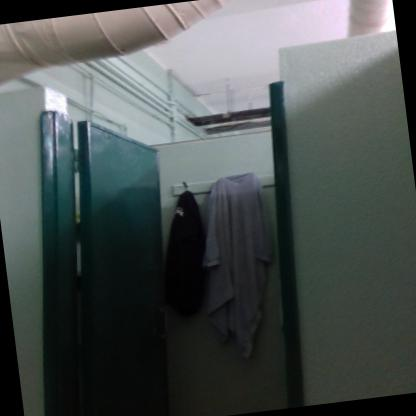open: (29, 55, 335, 415)
